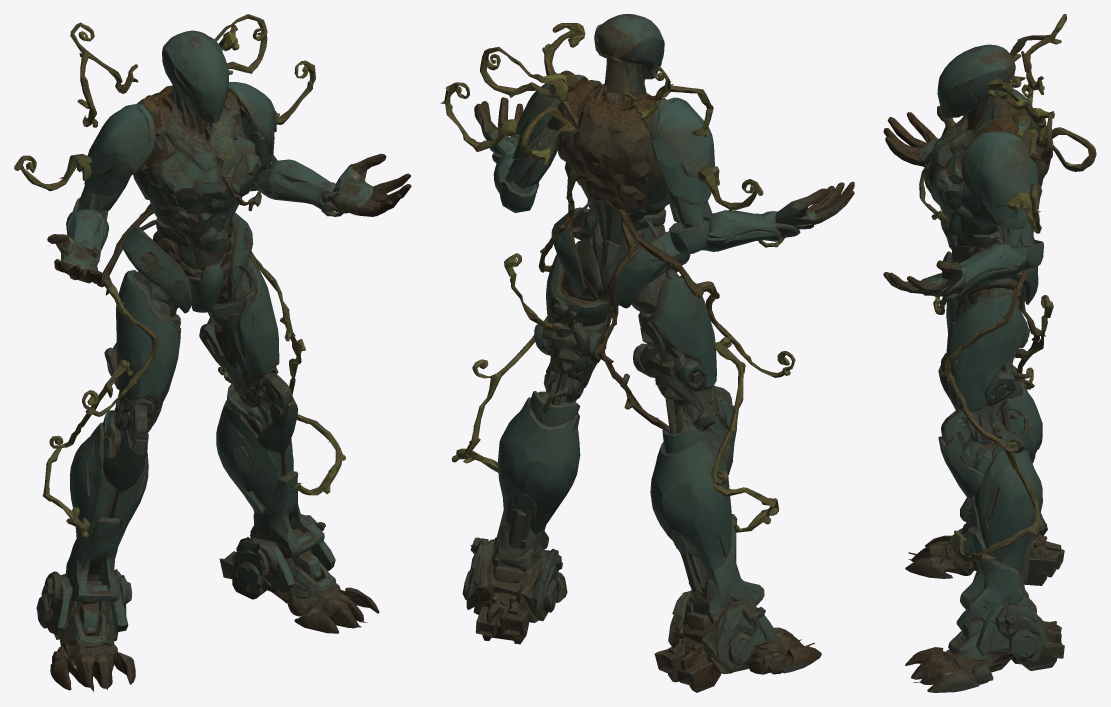
The model's file is grafter.glb.
3 views of the same model, side by side, from view 1: azimuth 30°, elevation 25°; view 2: azimuth 150°, elevation 25°; view 3: azimuth 270°, elevation 25° (orthographic). The views are drawn at different scales.
Visible parts, largest first — view 1: mesh_node; view 2: mesh_node; view 3: mesh_node.
Part boxes in pixels (x1,y1,x2,y2): mesh_node: [14, 14, 411, 692]; mesh_node: [440, 14, 854, 692]; mesh_node: [883, 14, 1096, 692].
Bounding box in the file's own units: 1.19 × 1.9 × 0.6406.
Materials: 1 (1 with a texture image).
